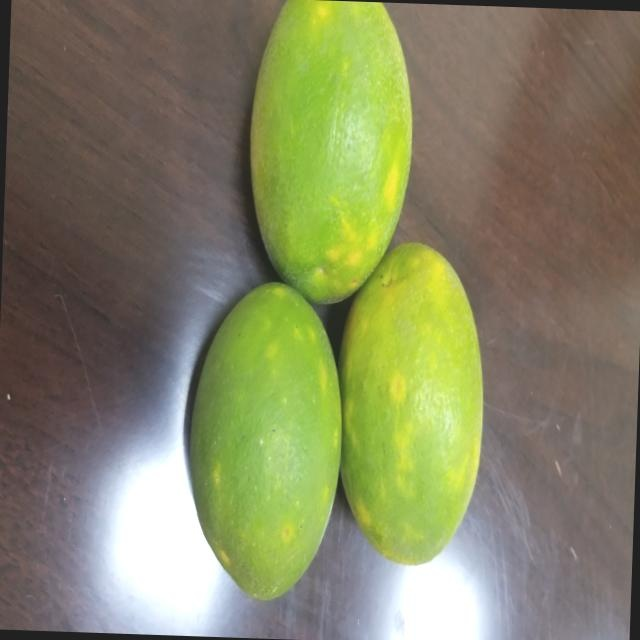agrume: (171, 260, 352, 615), (212, 0, 417, 306), (332, 238, 492, 570)
